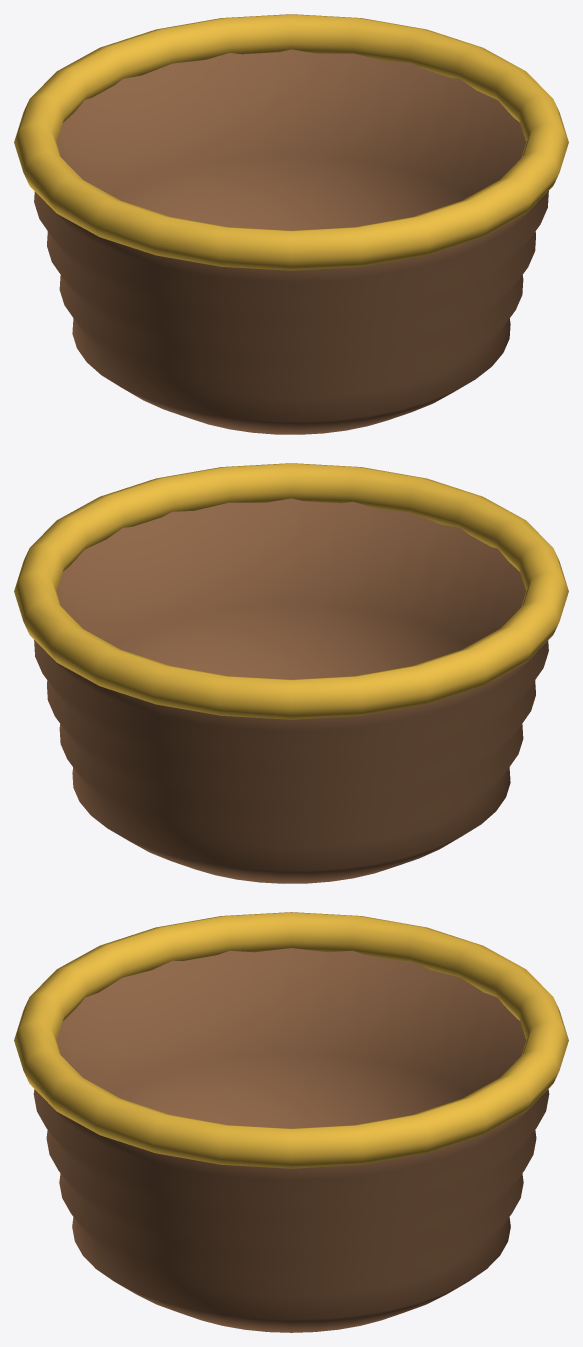
Rendered from harvester-basket.fit.glb.
3 views of the same model, one above another, from view 1: azimuth 30°, elevation 25°; view 2: azimuth 150°, elevation 25°; view 3: azimuth 270°, elevation 25° (orthographic).
Visible parts, largest first — view 1: harvester-basket; view 2: harvester-basket; view 3: harvester-basket.
Part boxes in pixels (x1=…): harvester-basket: x1=14, y1=14, x2=568, y2=434; harvester-basket: x1=14, y1=463, x2=568, y2=883; harvester-basket: x1=14, y1=912, x2=568, y2=1332.
Bounding box in the file's own units: 0.364 × 0.179 × 0.364.
